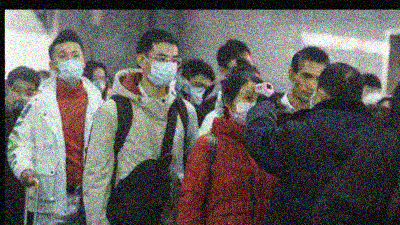with_mask: (145, 52, 179, 89), (231, 87, 260, 128), (52, 49, 84, 83), (9, 84, 36, 113), (187, 80, 211, 106), (88, 71, 107, 95), (361, 87, 382, 107)
without_mask: (293, 70, 320, 104)
